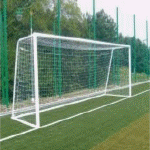goals: (8, 30, 136, 132)
